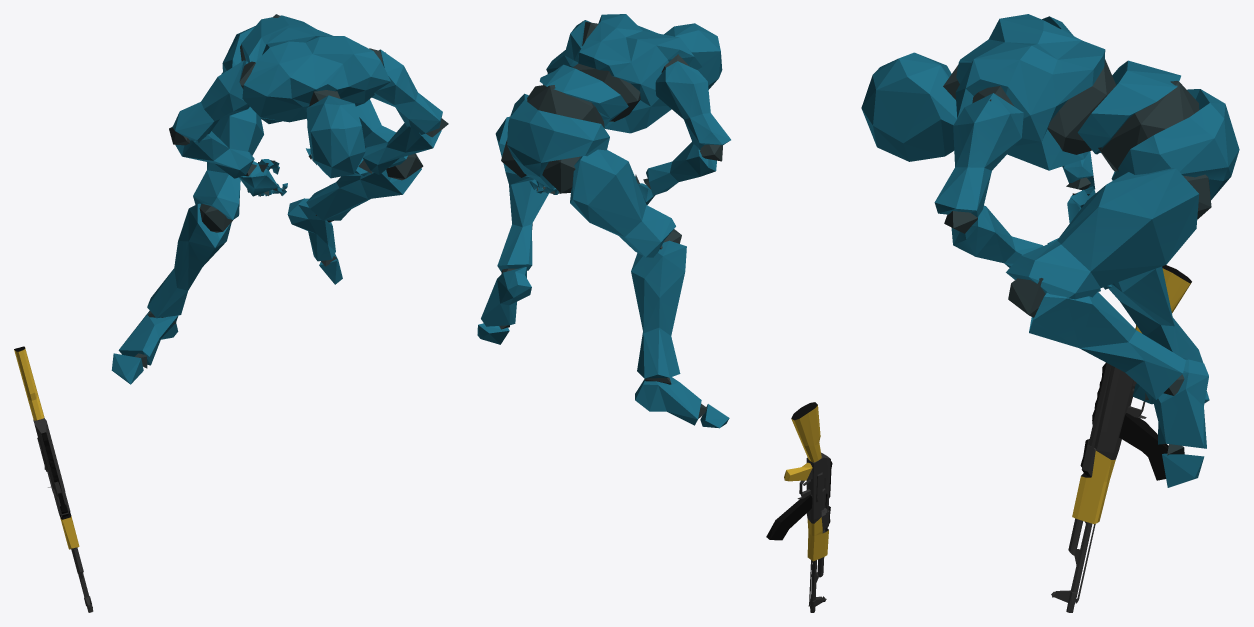
File: EnemyDying_000075.obj
3 renders of one model, left to right at view 1: azimuth 30°, elevation 25°; view 2: azimuth 150°, elevation 25°; view 3: azimuth 270°, elevation 25°, orthographic. The views are drawn at different scales.
Visible parts, largest first — view 1: Alpha_Surface, AK-47_Cube, Alpha_Joints; view 2: Alpha_Surface, AK-47_Cube, Alpha_Joints; view 3: Alpha_Surface, Alpha_Joints, AK-47_Cube.
Part boxes in pixels (<box>): Alpha_Surface: <box>111,15,442,384</box>; AK-47_Cube: <box>14,346,93,612</box>; Alpha_Joints: <box>135,14,448,368</box>; Alpha_Surface: <box>477,14,730,428</box>; AK-47_Cube: <box>766,402,832,612</box>; Alpha_Joints: <box>499,21,722,418</box>; Alpha_Surface: <box>861,14,1239,487</box>; Alpha_Joints: <box>943,59,1211,455</box>; AK-47_Cube: <box>1051,265,1191,612</box>.
Bounding box in the file's own units: 244 × 349 × 169.
